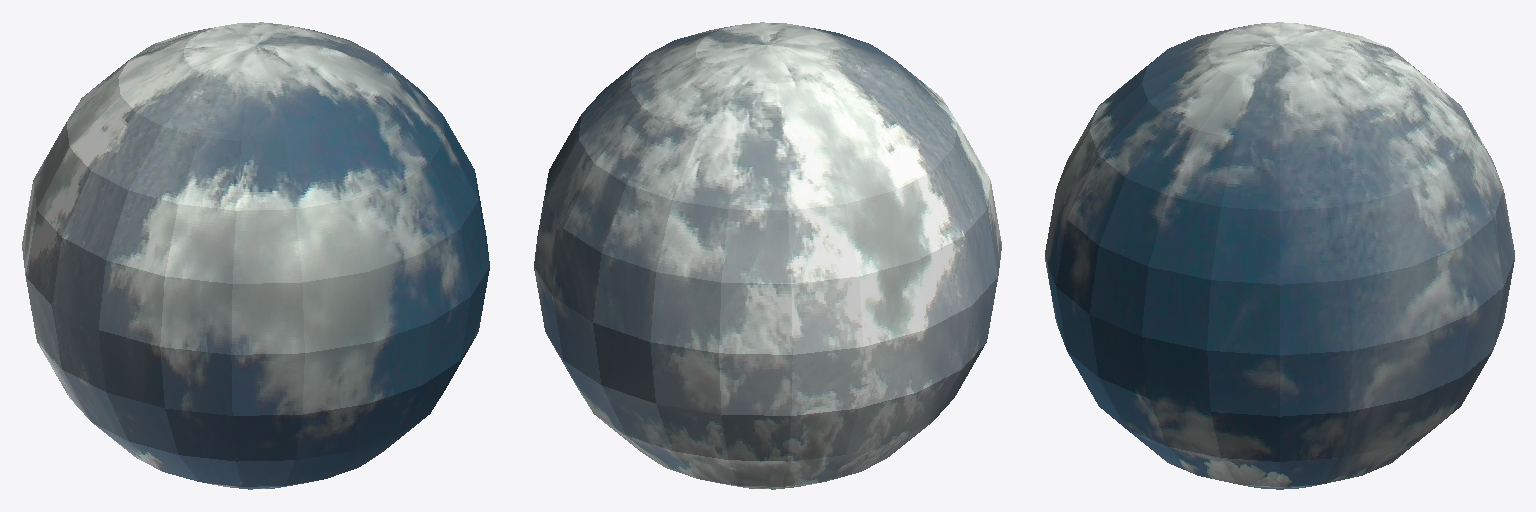
The picture shows the model from 3 angles: view 1: azimuth 30°, elevation 25°; view 2: azimuth 150°, elevation 25°; view 3: azimuth 270°, elevation 25°; orthographic projection.
Bounding box in the file's own units: 2 × 1.98 × 2.
Materials: 1 (1 with a texture image).